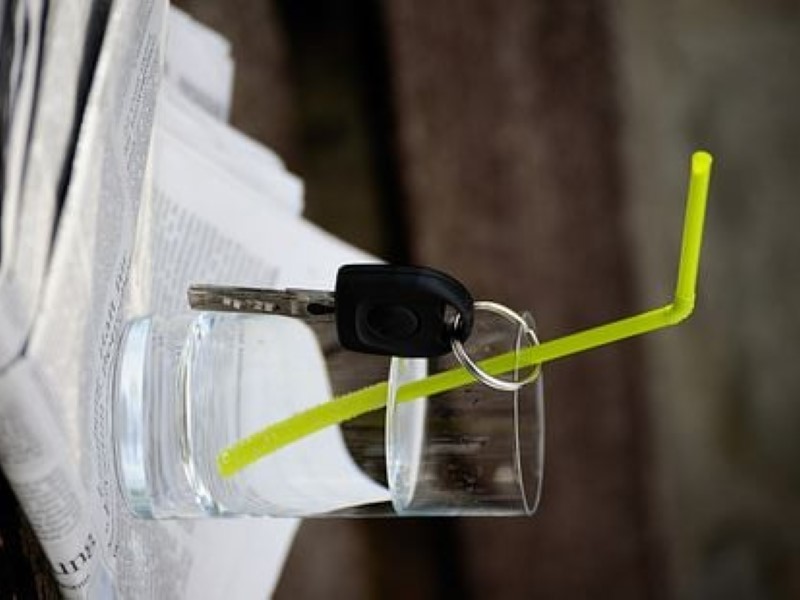key: (189, 255, 477, 360)
